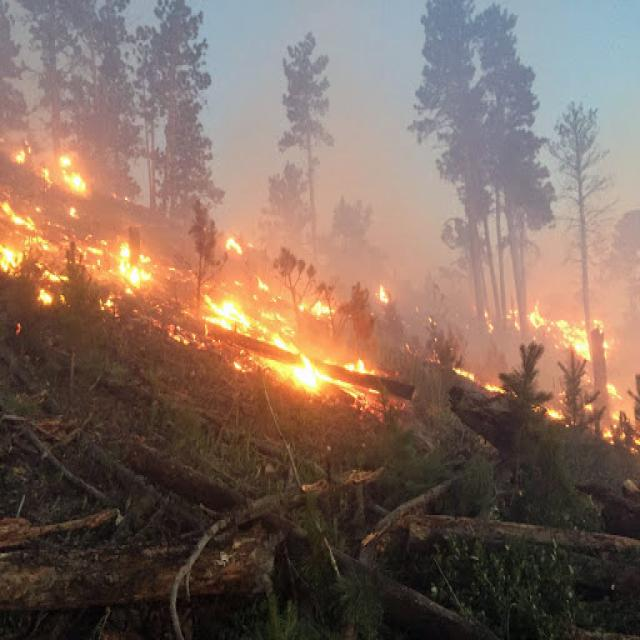Fire: (0, 128, 640, 436)
Smoke: (0, 0, 640, 364)
